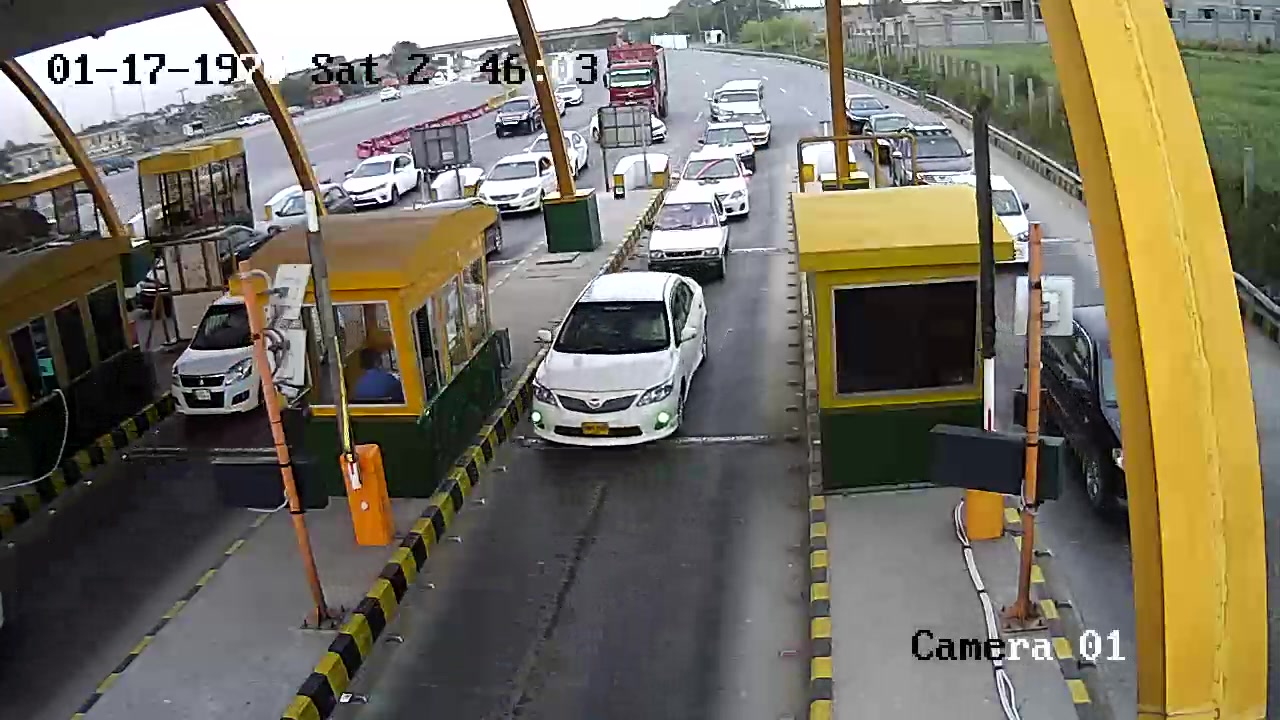F1: (520, 269, 725, 458)
